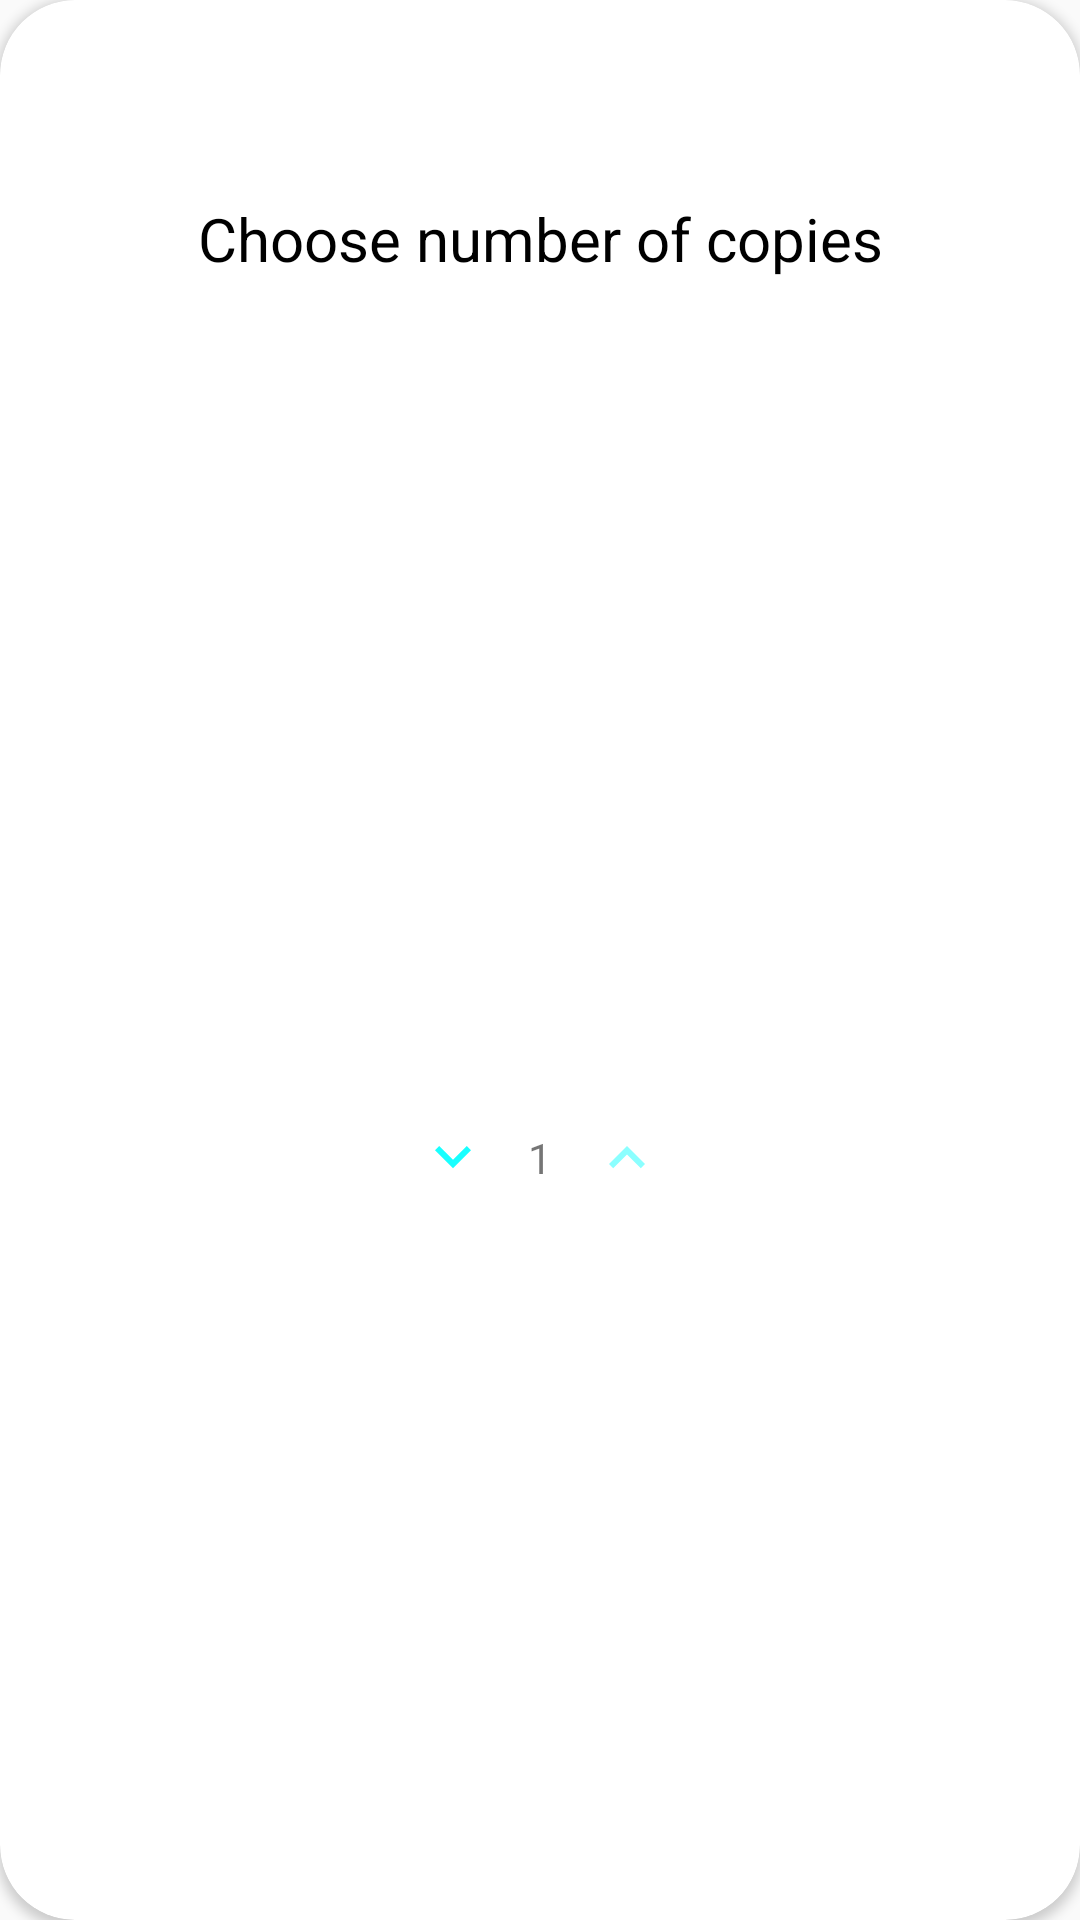

Icon click points for this 1080px×1920px phone screenshot, format point (x, y):
keyboard arrow up sharp: point (627, 1157)
